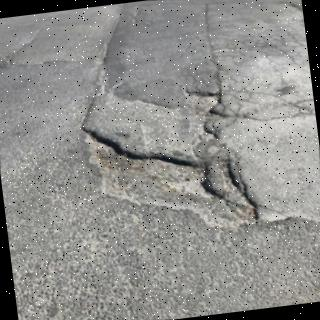pothole: (86, 135, 243, 228)
